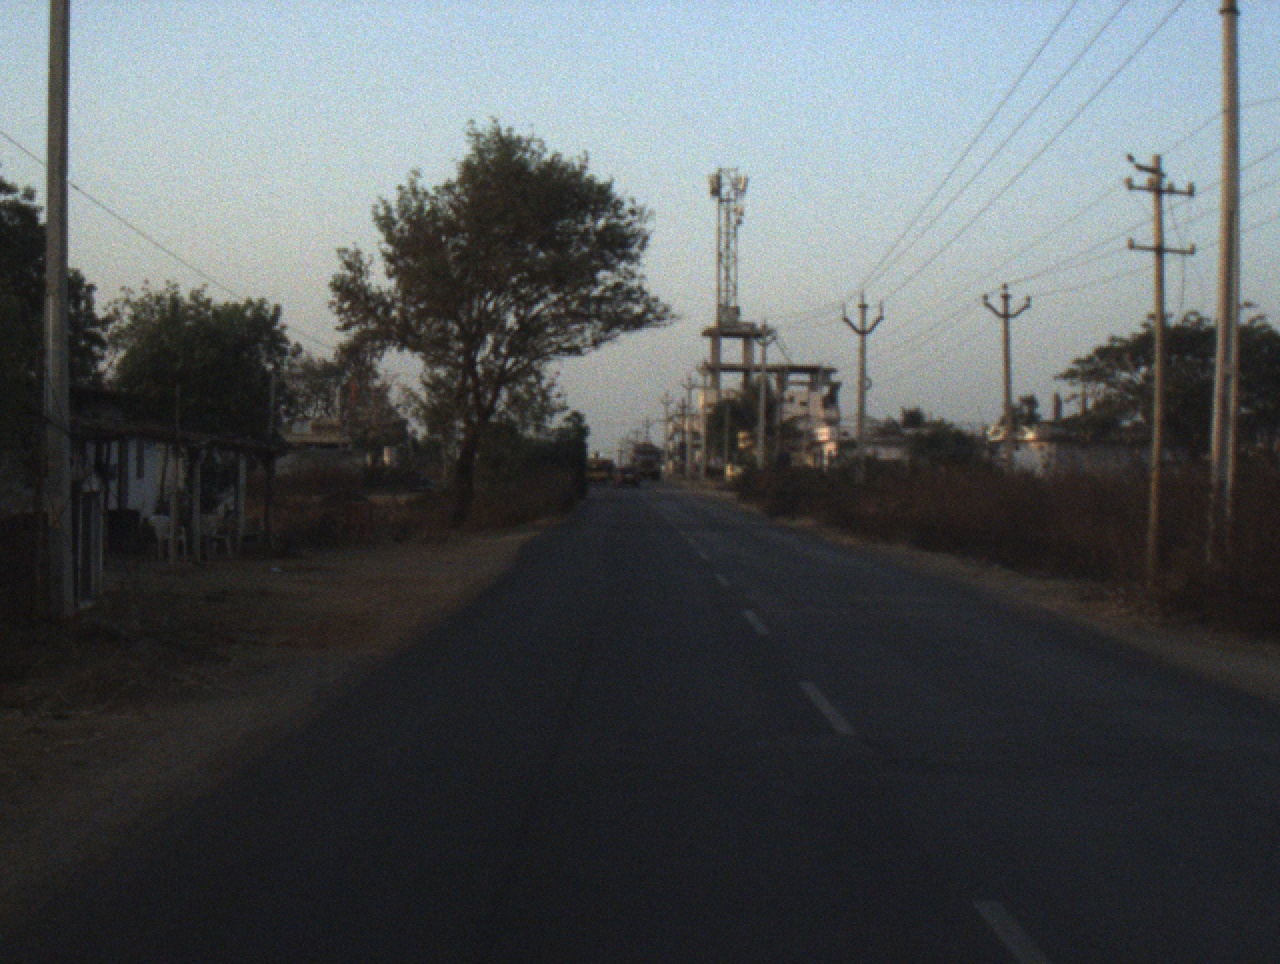autorickshaw: (583, 450, 608, 486)
car: (610, 465, 641, 491)
truck: (626, 439, 669, 484)
